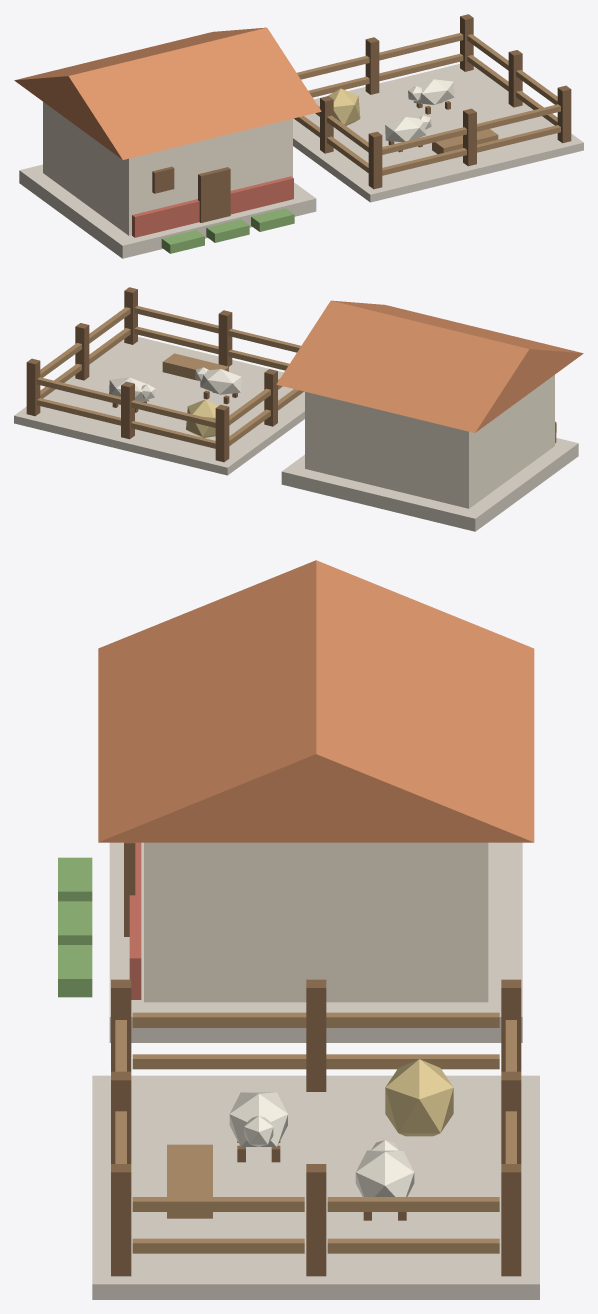
File: farm.glb
3 views of the same model, one above another, from view 1: azimuth 30°, elevation 25°; view 2: azimuth 150°, elevation 25°; view 3: azimuth 270°, elevation 25° (orthographic). The views are drawn at different scales.
Visible parts, largest first — view 1: roof, yard, wall, base, socle, door, rail, rail.005, rail.006, rail.001, body, hay (+19 smaller); view 2: roof, wall, yard, base, rail.001, rail.006, rail.005, rail, trough, body, post.002, post.005 (+13 smaller); view 3: roof, yard, wall, base, rail.007, rail.002, hay, rail.003, rail.004, trough, rail.008, rail.009 (+16 smaller).
Part boxes in pixels (<box>): roof: <box>14,27,321,159</box>; yard: <box>293,64,583,202</box>; wall: <box>43,102,292,235</box>; base: <box>19,164,316,258</box>; socle: <box>132,176,293,237</box>; door: <box>198,167,230,222</box>; rail: <box>382,125,560,175</box>; rail.005: <box>382,104,560,154</box>; rail.006: <box>297,33,463,79</box>; rail.001: <box>308,53,463,97</box>; body: <box>385,117,426,142</box>; hay: <box>327,88,360,125</box>; roof: <box>276,300,583,432</box>; wall: <box>305,375,554,508</box>; yard: <box>14,337,304,475</box>; base: <box>281,438,578,531</box>; rail.001: <box>37,398,215,448</box>; rail.006: <box>37,377,215,427</box>; rail.005: <box>134,306,300,352</box>; rail: <box>134,326,289,370</box>; trough: <box>162,353,228,380</box>; body: <box>200,369,241,394</box>; post.002: <box>215,404,229,462</box>; post.005: <box>26,358,40,416</box>; roof: <box>98,560,534,842</box>; yard: <box>92,1075,539,1299</box>; wall: <box>144,842,488,1002</box>; base: <box>109,842,522,1042</box>; rail.007: <box>132,1012,499,1027</box>; rail.002: <box>132,1054,499,1069</box>; hay: <box>385,1059,453,1136</box>; rail.003: <box>132,1238,304,1253</box>; rail.004: <box>327,1238,499,1253</box>; trough: <box>167,1144,212,1218</box>; rail.008: <box>132,1197,304,1211</box>; rail.009: <box>327,1197,499,1211</box>.
Bounding box in the file's own units: 1.85 × 0.56 × 0.84.
